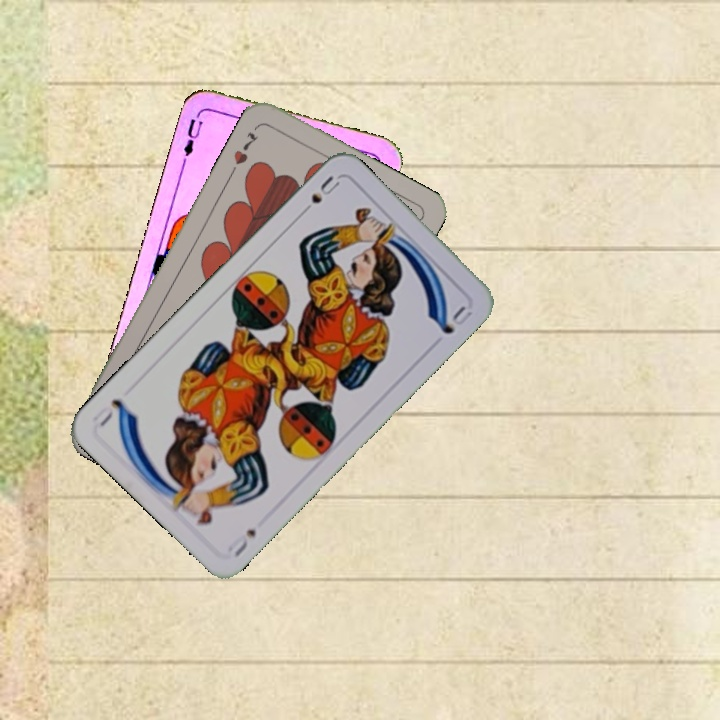EU: (178, 108, 205, 166)
H7: (229, 128, 261, 167)
SU: (295, 171, 343, 219), (223, 524, 259, 560)
